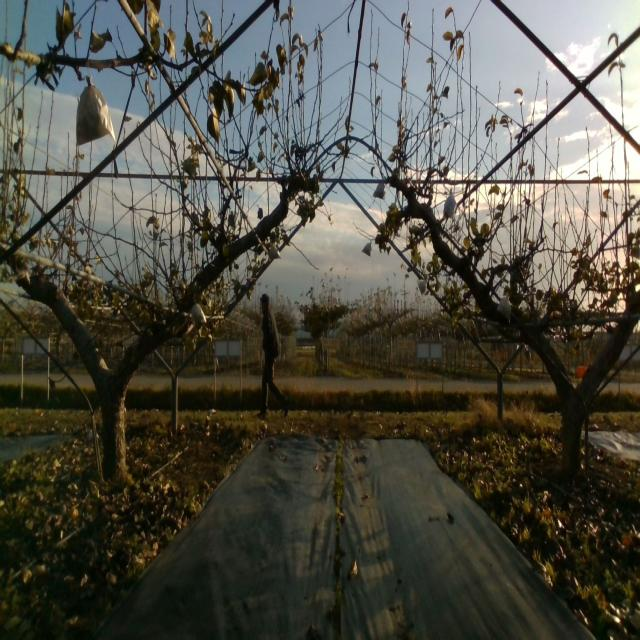pearbags: (258, 292, 290, 421), (76, 74, 115, 146), (495, 294, 512, 322), (442, 190, 457, 220), (190, 302, 207, 327), (373, 178, 386, 199), (268, 242, 282, 260), (417, 276, 428, 298), (362, 240, 372, 258)
